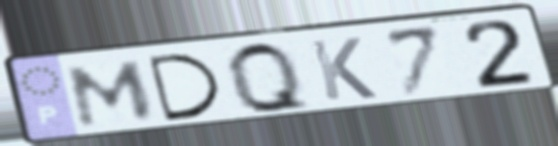2: (463, 18, 540, 91)
7: (383, 22, 444, 101)
D: (143, 51, 227, 124)
K: (306, 35, 380, 103)
M: (65, 58, 158, 130)
Q: (223, 39, 317, 116)
